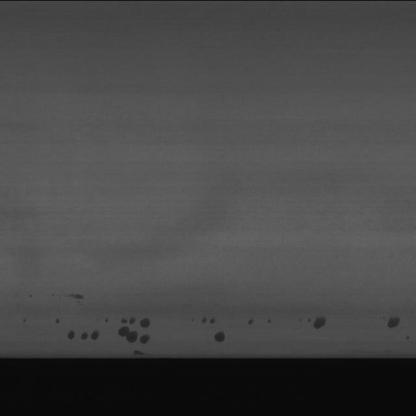oil_spot: (109, 315, 159, 352), (197, 314, 276, 330), (54, 319, 102, 341), (297, 314, 330, 331), (382, 315, 414, 332), (58, 290, 87, 308), (210, 328, 235, 344)
